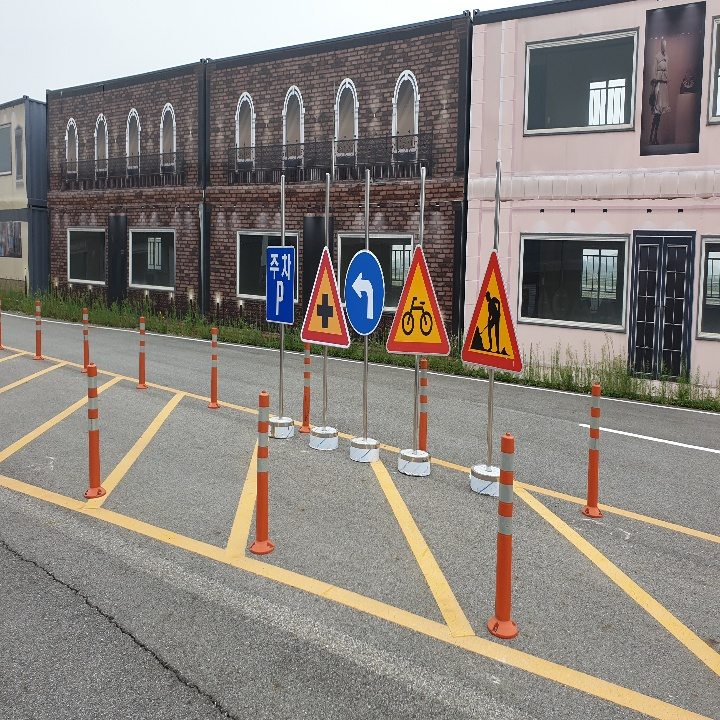bicycle: (387, 245, 451, 355)
const: (469, 286, 513, 353)
inter: (313, 290, 336, 333)
left: (349, 270, 380, 320)
parking: (268, 273, 290, 314)
